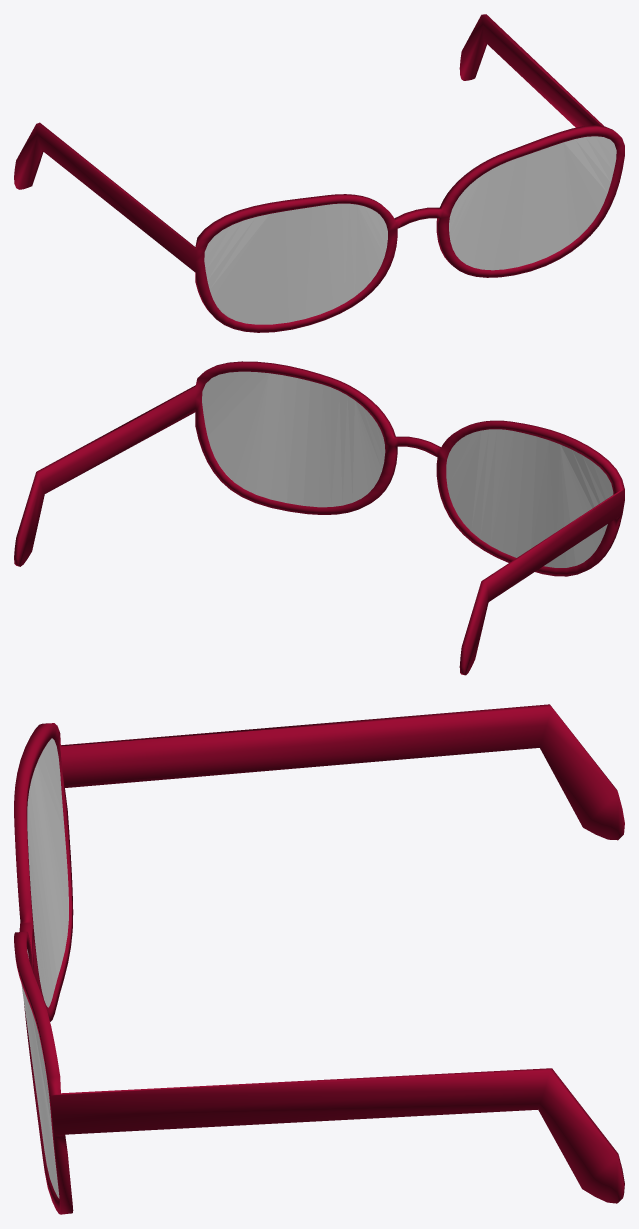
The model's file is CrushMegane_Se.fbx.
The picture shows the model from 3 angles, top to bottom: view 1: azimuth 30°, elevation 25°; view 2: azimuth 150°, elevation 25°; view 3: azimuth 270°, elevation 25°; orthographic projection. The views are drawn at different scales.
Parts seen in each view (by area): view 1: CrushMegane_S.Glasses, CrushMegane_S; view 2: CrushMegane_S.Glasses, CrushMegane_S; view 3: CrushMegane_S, CrushMegane_S.Glasses.
Part boxes in pixels (x1=…): CrushMegane_S.Glasses: x1=204, y1=136, x2=616, y2=324; CrushMegane_S: x1=14, y1=14, x2=624, y2=332; CrushMegane_S.Glasses: x1=202, y1=371, x2=613, y2=567; CrushMegane_S: x1=14, y1=361, x2=624, y2=675; CrushMegane_S: x1=14, y1=704, x2=624, y2=1214; CrushMegane_S.Glasses: x1=21, y1=738, x2=68, y2=1198.
Size of the model in its own units: 0.1395 by 0.04 by 0.0979.
